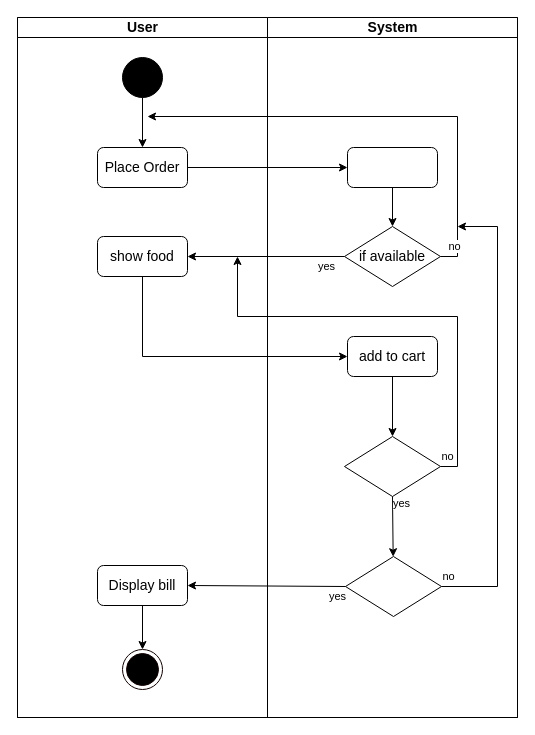
The diagram is 535 pixels wide and 735 high, and some of its shapes have lost their labels. Each missing label, with the centre of its shape:
"if added" belongs at [392,466].
"if checkout" belongs at [393,586].
"search for food" belongs at [392,167].
